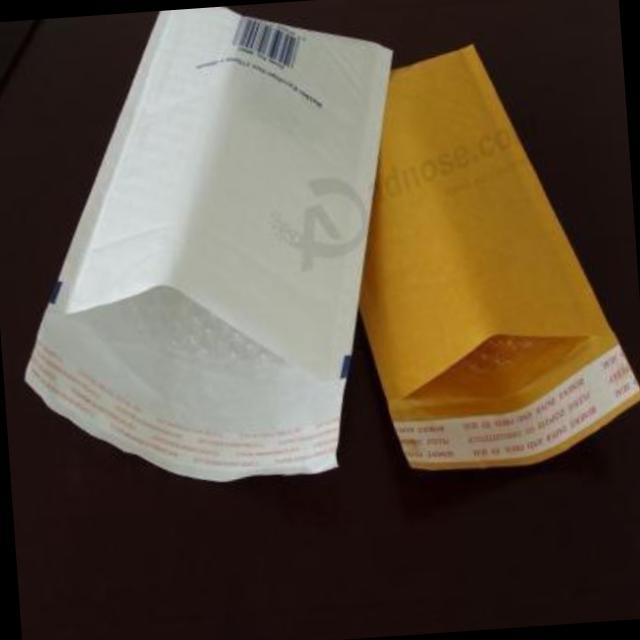mailer: (25, 7, 388, 480), (360, 46, 640, 469)
